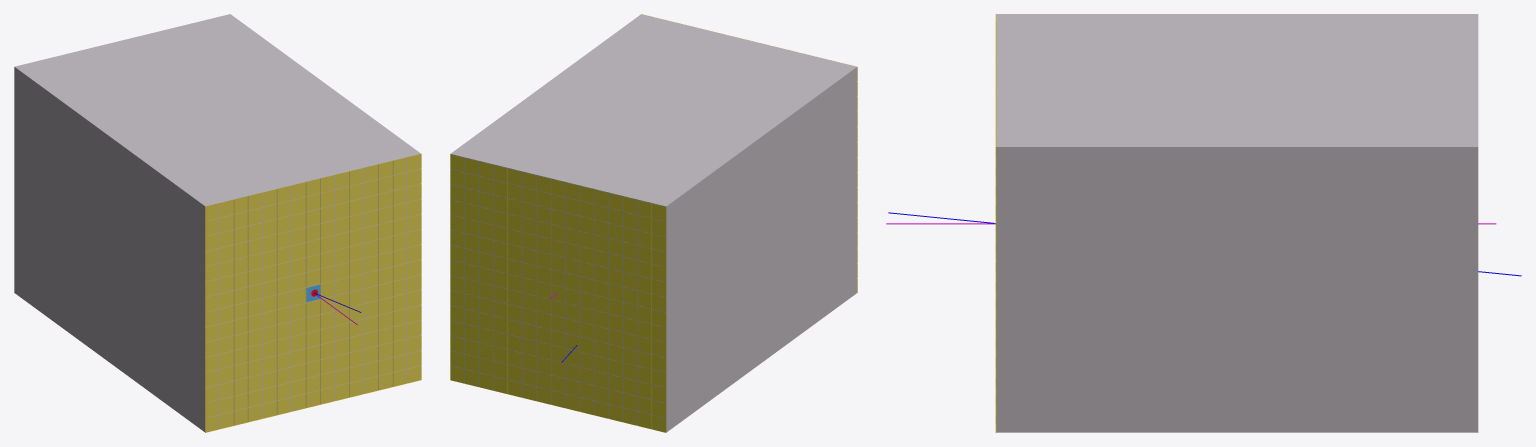
File: calo_shower_back_only.glb
The picture shows the model from 3 angles, left to right: view 1: azimuth 30°, elevation 25°; view 2: azimuth 150°, elevation 25°; view 3: azimuth 270°, elevation 25°; orthographic projection. The views are drawn at different scales.
Parts seen in each view (by area): view 1: Module, ECAL front; view 2: Module, ECALmiddle; view 3: Module, ECAL front.
Boxes of the visible parts, x1,y1,x2,y2 form: Module: (14,14,421,432); ECAL front: (205,153,421,432); Module: (450,14,857,432); ECALmiddle: (450,154,666,432); Module: (996,14,1478,432); ECAL front: (995,14,996,432).
Size of the model in its own units: 31.45 by 31.42 by 63.26.
